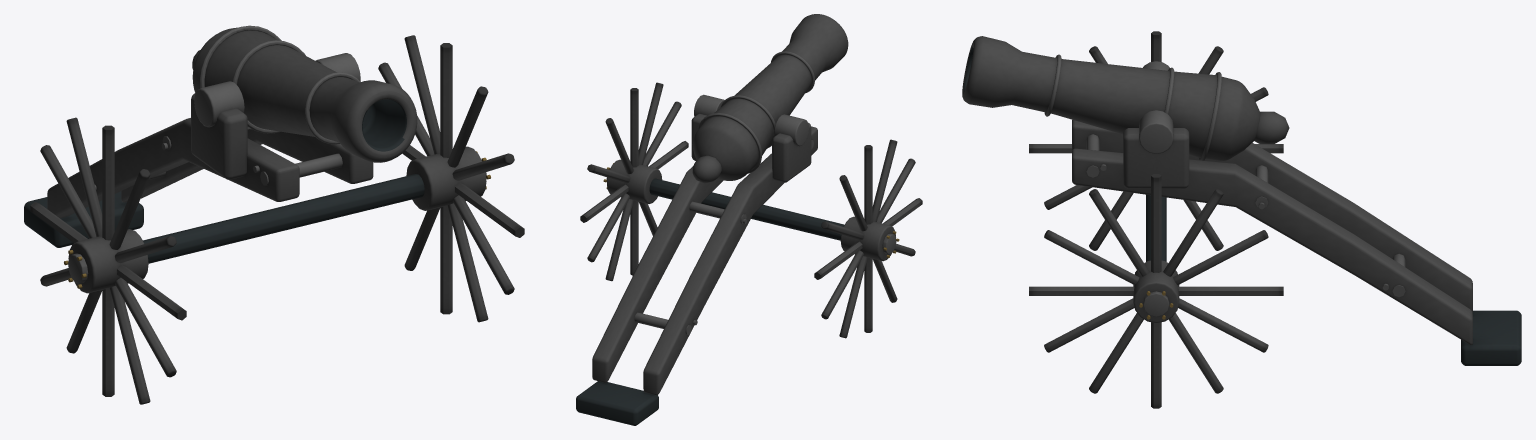
The model's file is cannon.obj.
3 renders of one model, left to right at view 1: azimuth 30°, elevation 25°; view 2: azimuth 150°, elevation 25°; view 3: azimuth 270°, elevation 25°, orthographic. The views are drawn at different scales.
Parts seen in each view (by area): view 1: cannon_static_0, cannon_wheel_left_1, cannon_wheel_right_2; view 2: cannon_static_0, cannon_wheel_left_1, cannon_wheel_right_2; view 3: cannon_static_0, cannon_wheel_right_2, cannon_wheel_left_1.
Boxes of the visible parts, left/top/right/bottom form: cannon_static_0: left=24, top=25, right=424, bottom=263; cannon_wheel_left_1: left=30, top=117, right=186, bottom=404; cannon_wheel_right_2: left=378, top=35, right=524, bottom=322; cannon_static_0: left=576, top=14, right=848, bottom=425; cannon_wheel_left_1: left=814, top=139, right=922, bottom=338; cannon_wheel_right_2: left=580, top=82, right=688, bottom=281; cannon_static_0: left=962, top=36, right=1521, bottom=365; cannon_wheel_right_2: left=1029, top=174, right=1283, bottom=408; cannon_wheel_left_1: left=1029, top=31, right=1283, bottom=250.
Size of the model in its own units: 1.54 by 1.3 by 2.12.
1 material, 1 textured.
